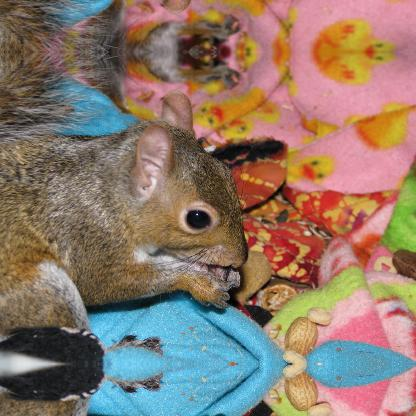Squirrel: (0, 52, 252, 336)
